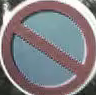No waiting: (2, 3, 91, 88)
